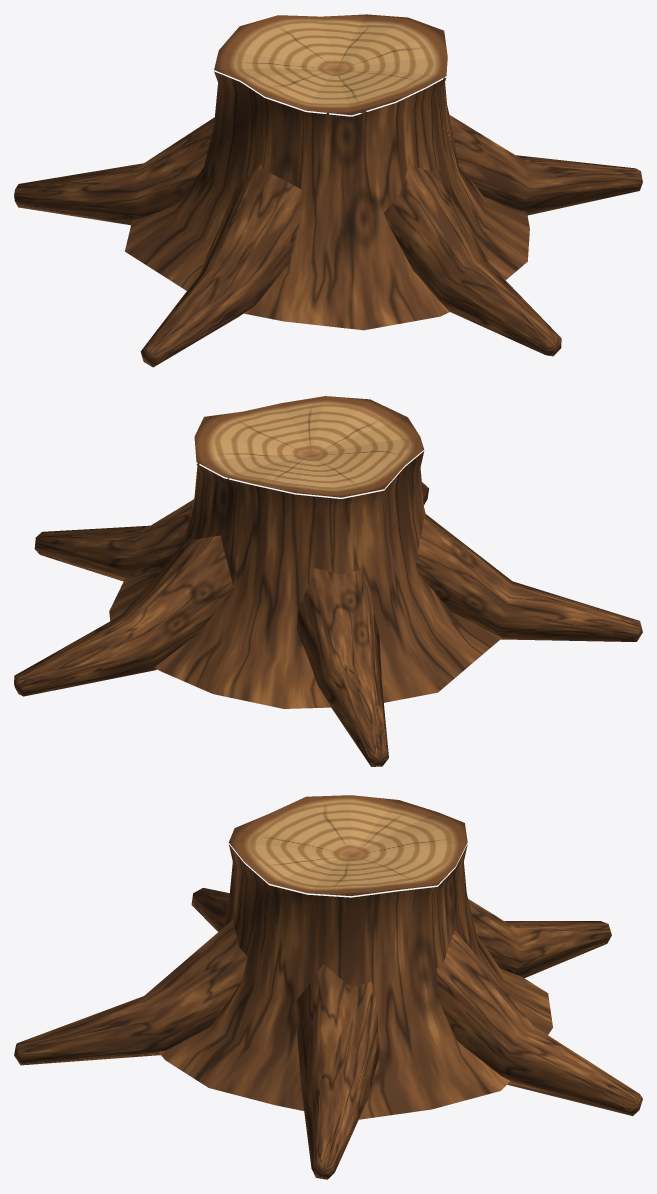
File: souche.glb
3 renders of one model, top to bottom at view 1: azimuth 30°, elevation 25°; view 2: azimuth 150°, elevation 25°; view 3: azimuth 270°, elevation 25°, orthographic. The views are drawn at different scales.
Parts seen in each view (by area): view 1: souche; view 2: souche; view 3: souche.
Boxes of the visible parts, x1,y1,x2,y2 form: souche: (14,14,642,367); souche: (14,396,642,766); souche: (14,795,642,1179).
Size of the model in its own units: 1.63 by 0.5428 by 1.58.
2 materials, 2 textured.
